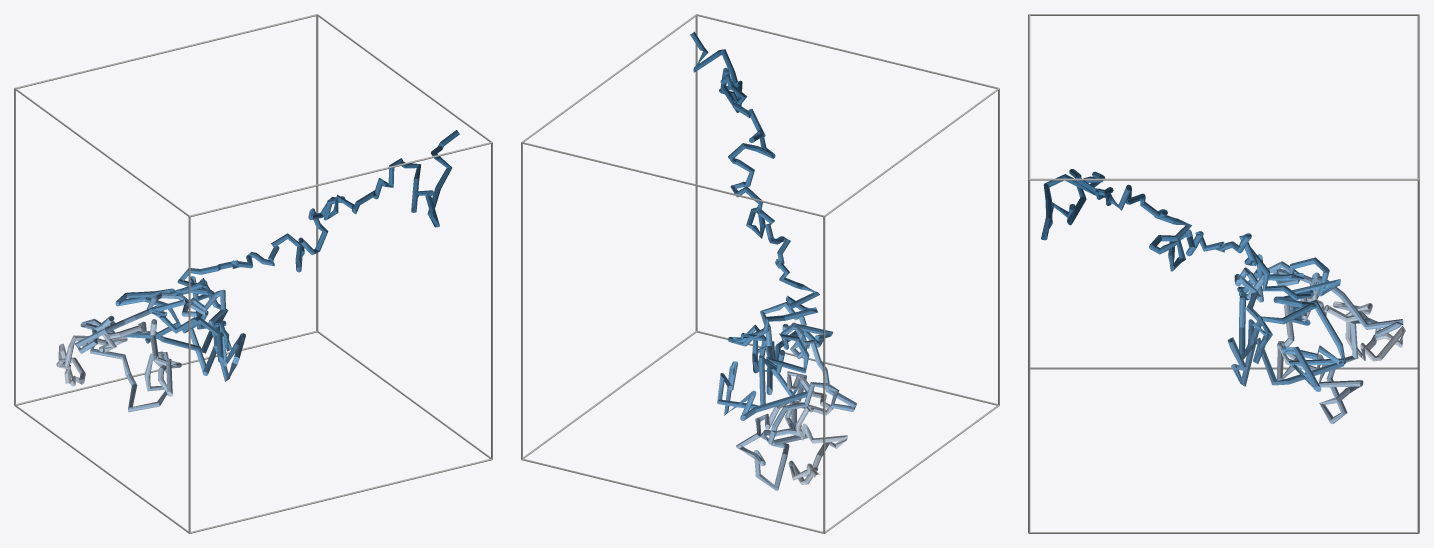
3 renders of one model, left to right at view 1: azimuth 30°, elevation 25°; view 2: azimuth 150°, elevation 25°; view 3: azimuth 270°, elevation 25°, orthographic. The views are drawn at different scales.
Parts seen in each view (by area): view 1: geometry_0, geometry_1; view 2: geometry_0, geometry_1; view 3: geometry_0, geometry_1.
Boxes of the visible parts, left/top/right/bottom form: geometry_0: left=56, top=130, right=459, bottom=412; geometry_1: left=14, top=14, right=492, bottom=533; geometry_0: left=690, top=31, right=856, bottom=490; geometry_1: left=521, top=14, right=999, bottom=533; geometry_0: left=1041, top=169, right=1405, bottom=423; geometry_1: left=1028, top=14, right=1419, bottom=533.
Bounding box in the file's own units: 0.3016 × 0.3037 × 0.3016.
